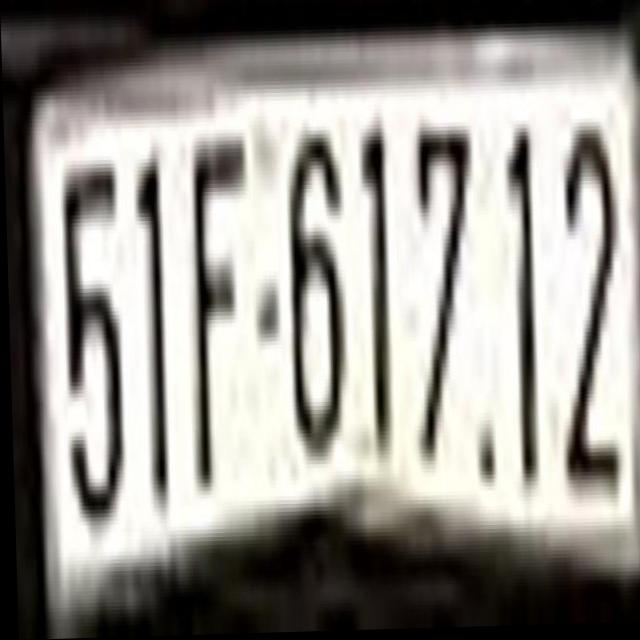1: (132, 151, 173, 544), (500, 104, 537, 496), (356, 111, 396, 469)
2: (548, 102, 627, 507)
5: (58, 164, 125, 530)
6: (281, 116, 347, 483)
7: (410, 98, 477, 479)
F: (186, 141, 253, 485)
